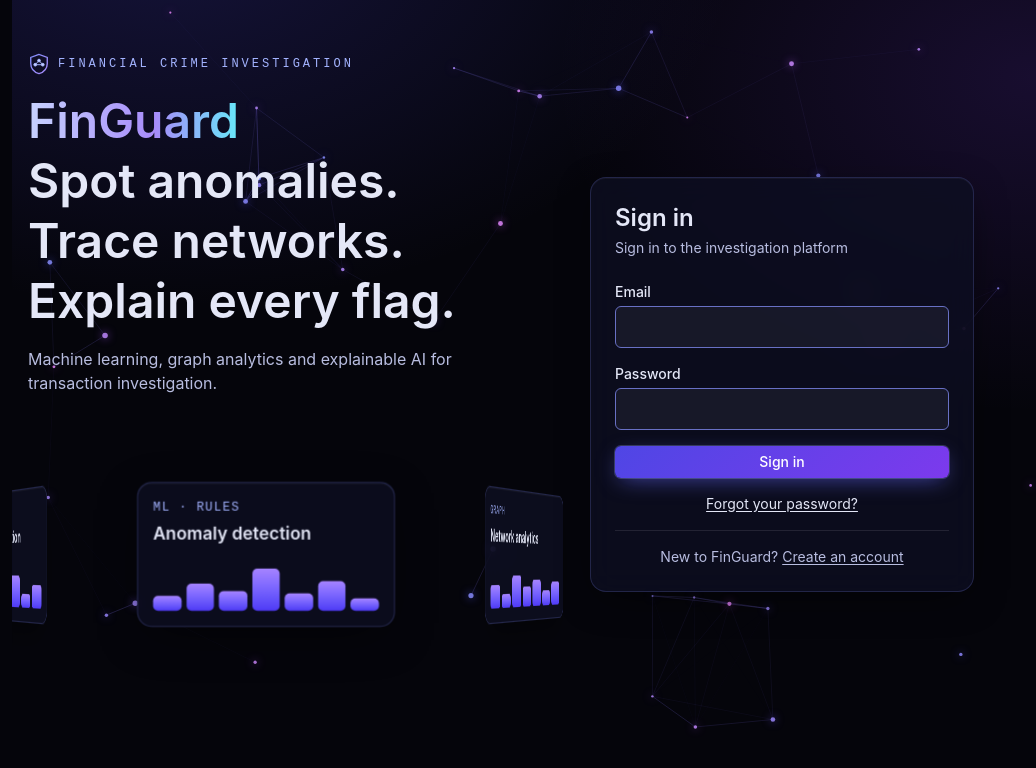
Scenario: LoginPage account states › offers to resend the confirmation email, and links to sign-up and password reset
In the field labelled "Email": (782, 326) [615, 306, 949, 348], type "asha@example.com"
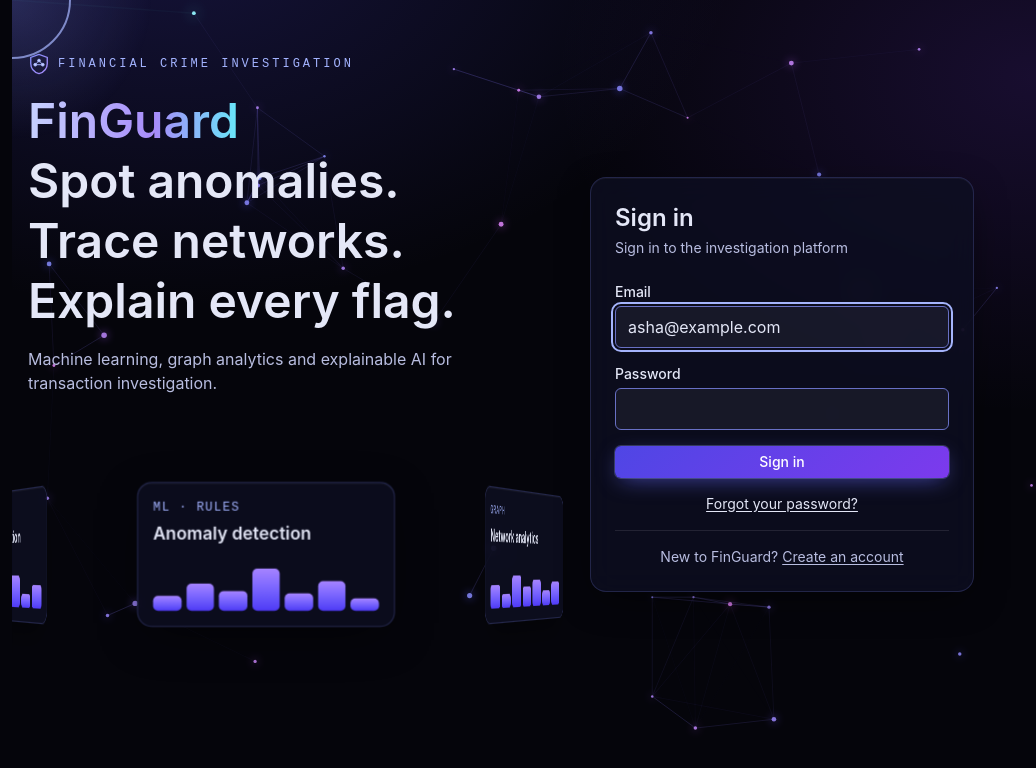
In the password field labelled "Password": (782, 408) [615, 388, 949, 430], type "Correct-Horse-Battery-9"
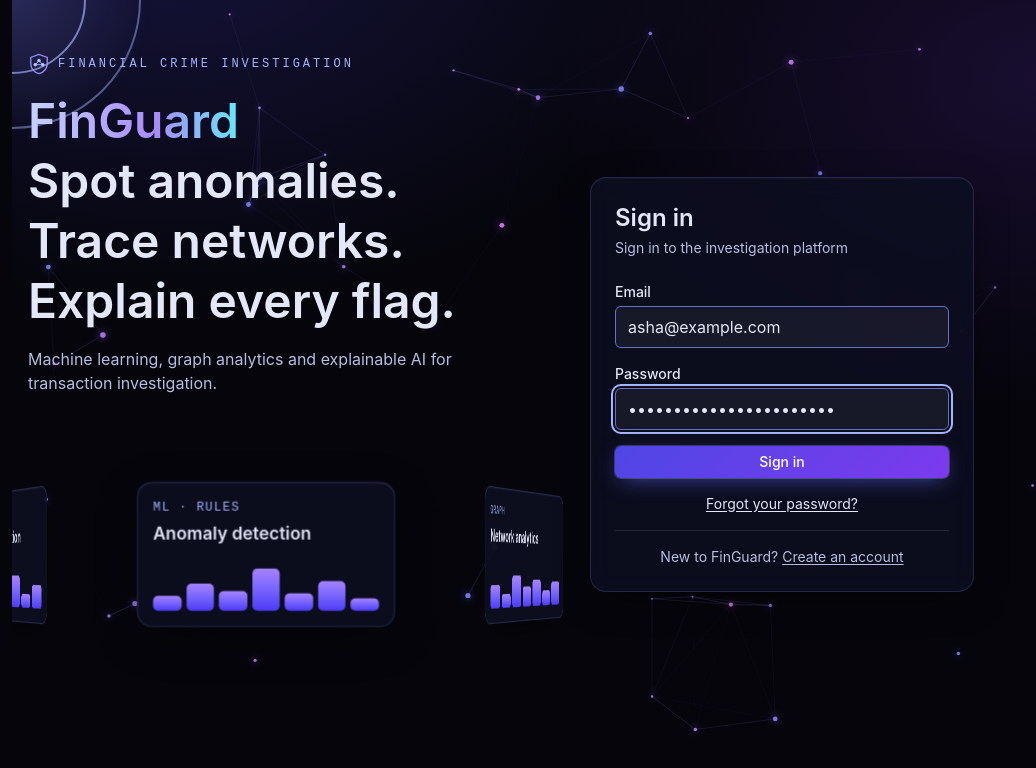
Click the button "Sign in": click(782, 462) [615, 446, 949, 478]
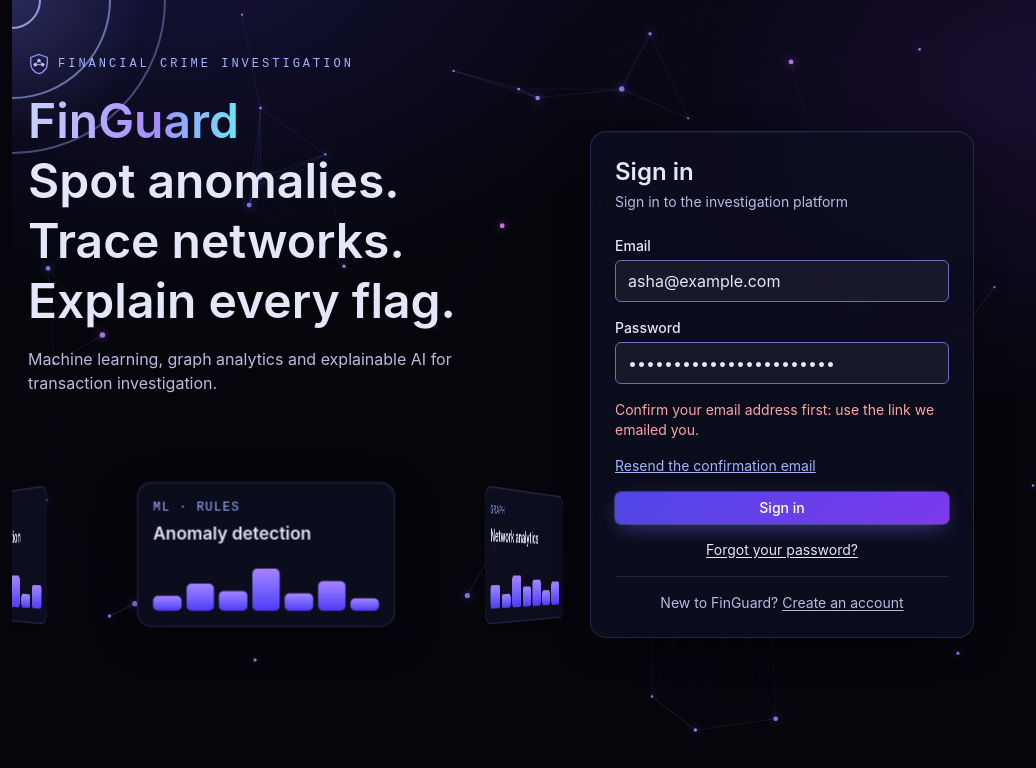
Check: the message shows "Confirm your email address first", box [615, 400, 934, 438]
Check: the button "Resend the confirmation email" is shown
Click the button "Resend the confirmation email": click(715, 466) [615, 456, 816, 476]
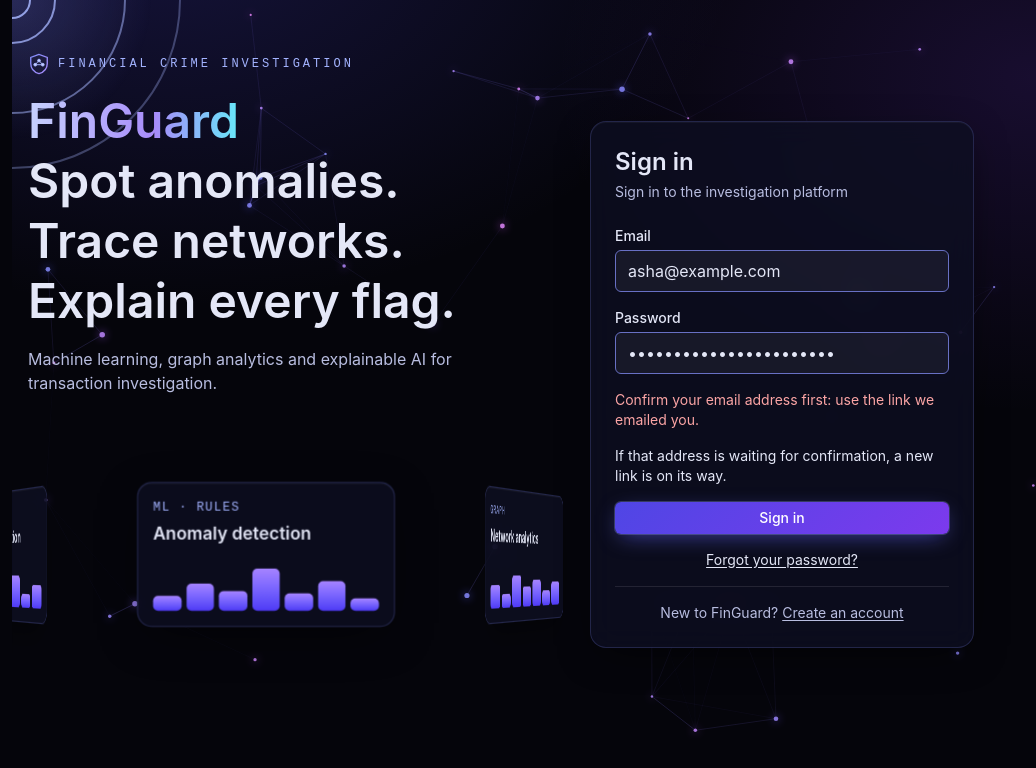
Check: the message "If that address is waiting for confirmation, a new link is on its way." is shown, box [615, 446, 934, 484]
